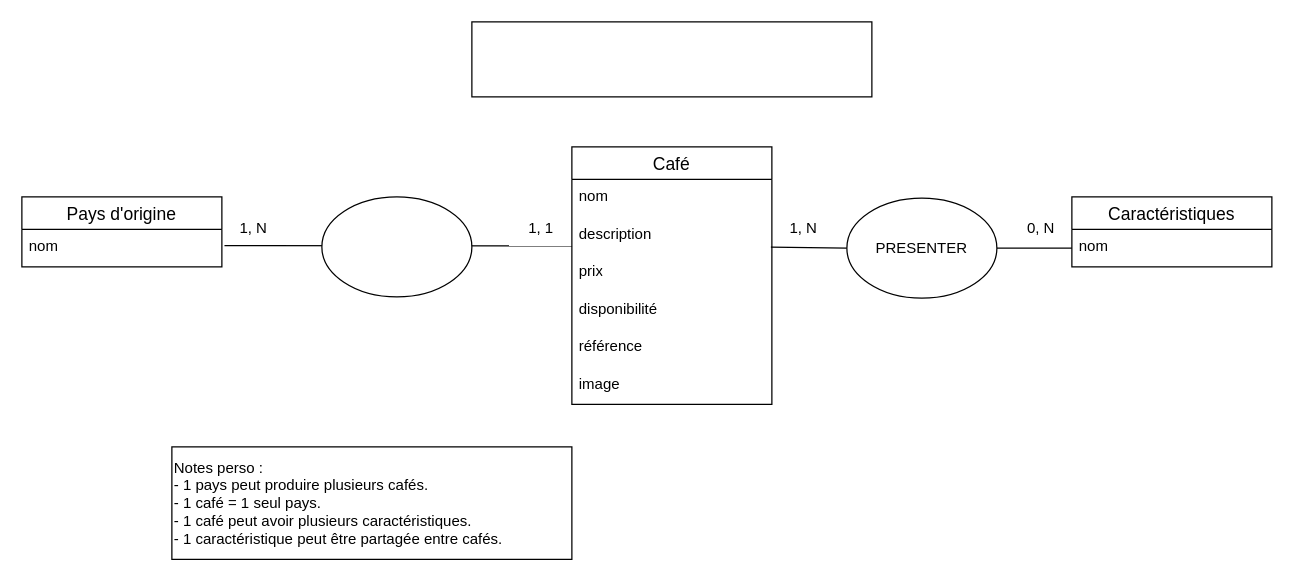
This 1294x581 diagram has some shape labels left out. The centre of each missing label's shape, as x and y in pixels:
"MCD projet O'coffee" belongs at (x=671, y=59).
"PROVENIR" belongs at (x=396, y=246).
